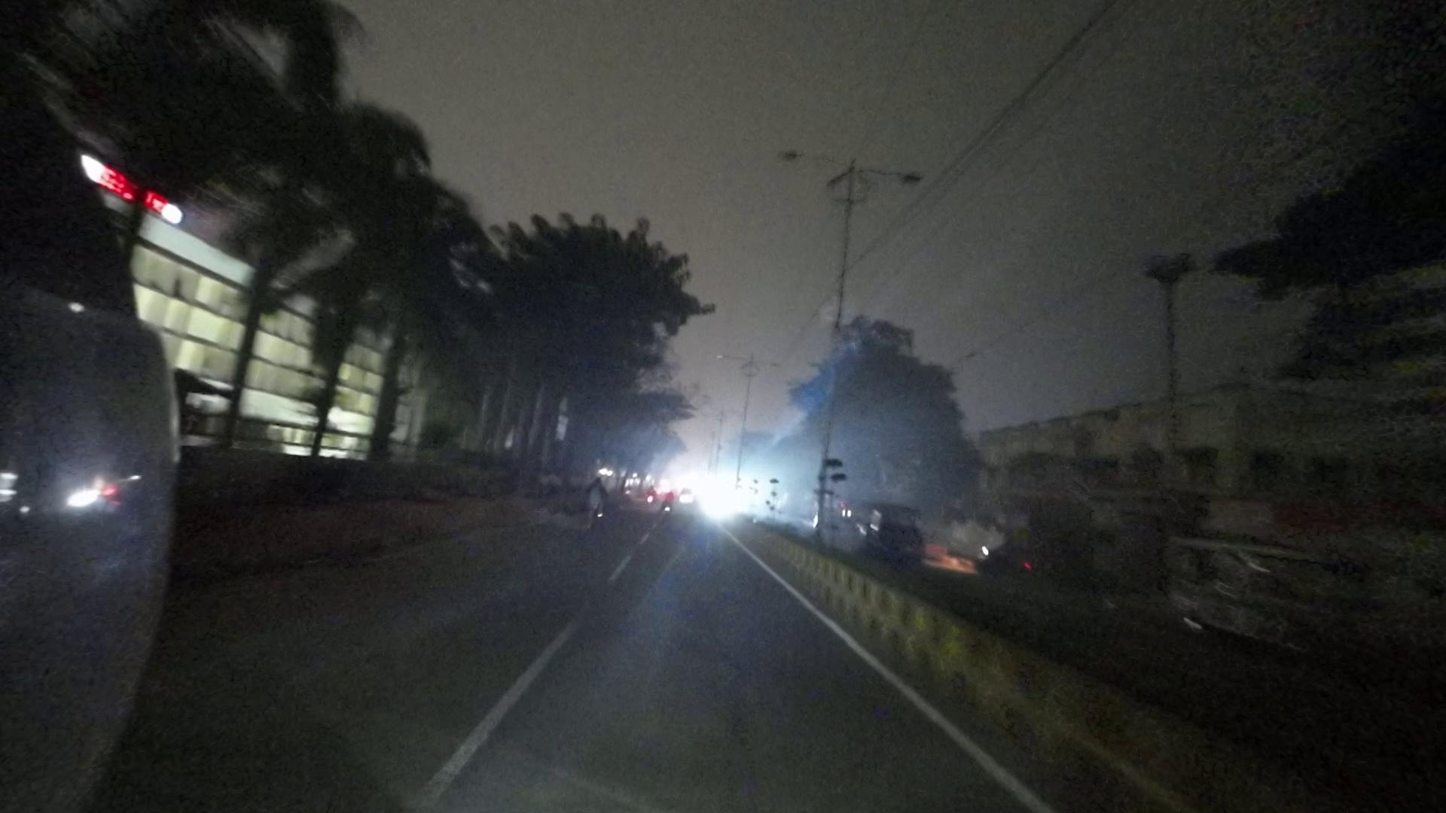streetlight: (869, 166, 924, 188)
